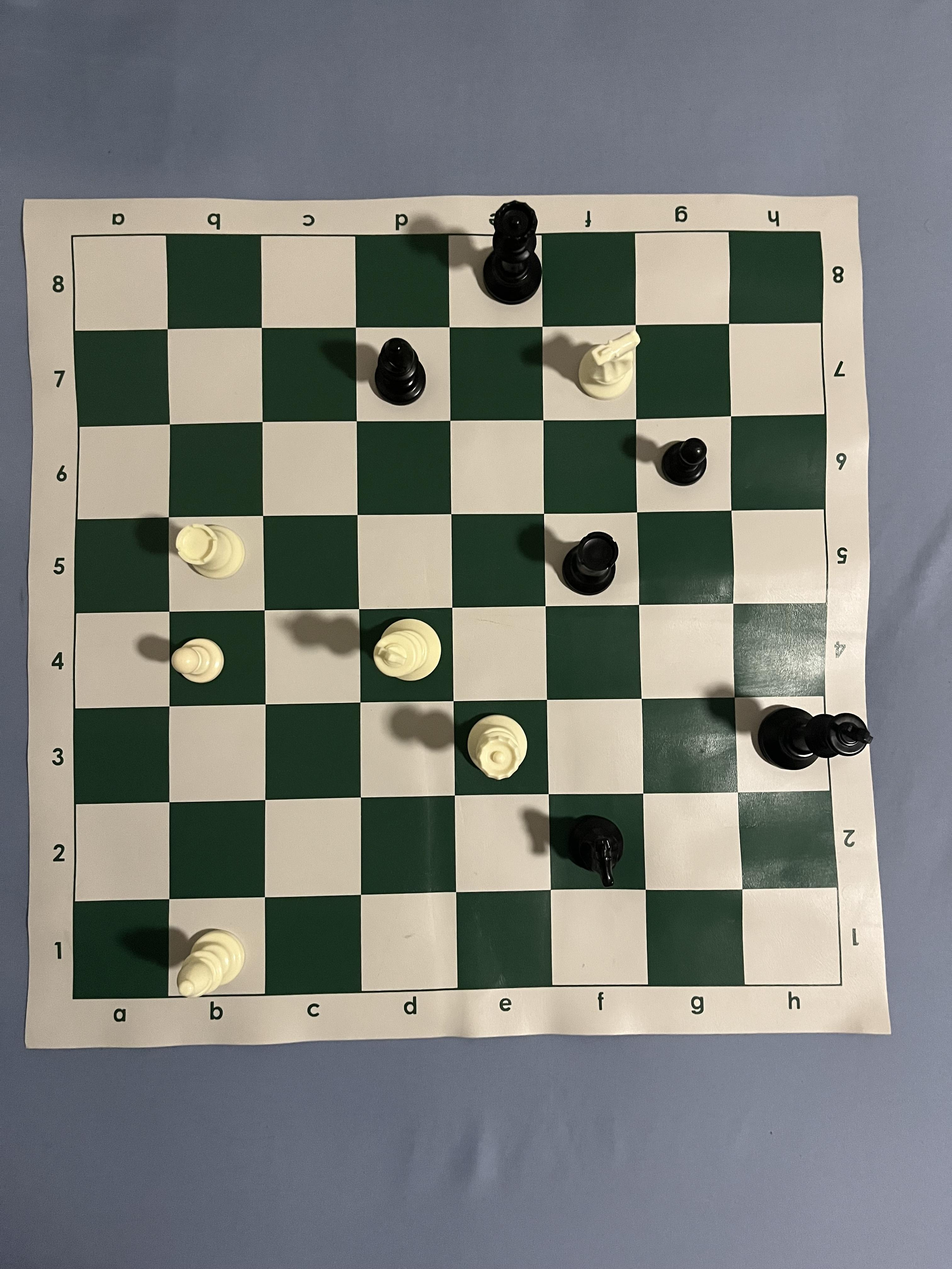black_bishop: (374, 337, 426, 407)
black_king: (756, 704, 873, 772)
black_knight: (566, 814, 624, 888)
black_pawn: (661, 437, 708, 488)
black_queen: (482, 200, 542, 306)
black_rook: (562, 531, 620, 597)
white_bishop: (175, 928, 246, 996)
white_king: (372, 617, 443, 682)
white_knight: (577, 330, 642, 401)
white_pawn: (170, 636, 225, 684)
white_queen: (467, 713, 529, 781)
white_rook: (175, 522, 247, 581)
